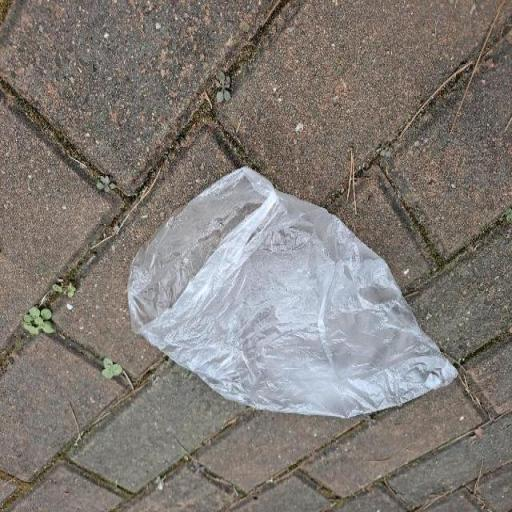plastic-bag: (125, 167, 460, 422)
